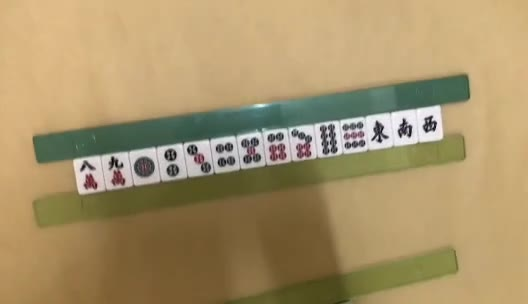1p: (134, 157, 154, 178)
1z: (373, 120, 389, 146)
2p: (164, 149, 180, 176)
2z: (398, 118, 412, 140)
3p: (187, 145, 212, 175)
3z: (422, 115, 438, 133)
4p: (217, 143, 235, 167)
5p: (240, 137, 262, 164)
6p: (267, 132, 286, 162)
7p: (291, 129, 311, 159)
8m: (79, 161, 99, 190)
8p: (321, 123, 337, 155)
9m: (108, 156, 124, 186)
9p: (343, 122, 366, 149)
